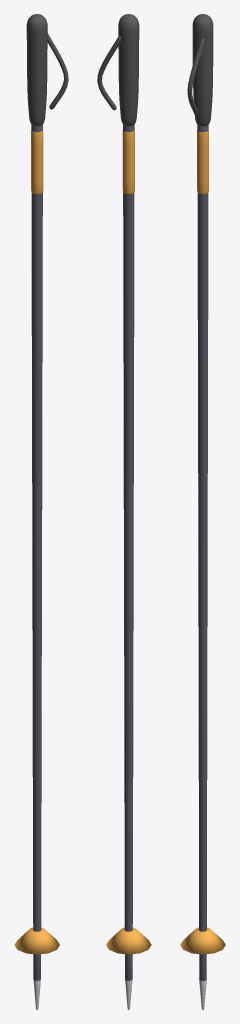
Rendered from ski_pole.glb.
3 views of the same model, side by side, from view 1: azimuth 30°, elevation 25°; view 2: azimuth 210°, elevation 25°; view 3: azimuth 270°, elevation 25° (orthographic).
Visible parts, largest first — view 1: ski_pole; view 2: ski_pole; view 3: ski_pole.
Part boxes in pixels (left/top/right/bottom): ski_pole: left=14, top=14, right=68, bottom=1009; ski_pole: left=97, top=14, right=151, bottom=1009; ski_pole: left=180, top=14, right=225, bottom=1009.
Size of the model in its own units: 0.0788 by 1.68 by 0.07.
